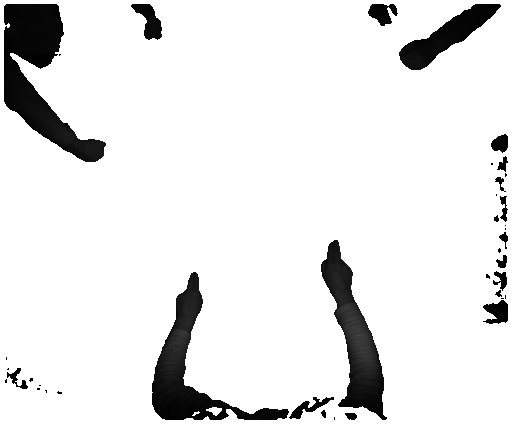fist: (392, 40, 437, 71), (77, 138, 111, 167), (144, 23, 167, 39)
hand: (320, 240, 359, 301), (168, 272, 207, 326)
